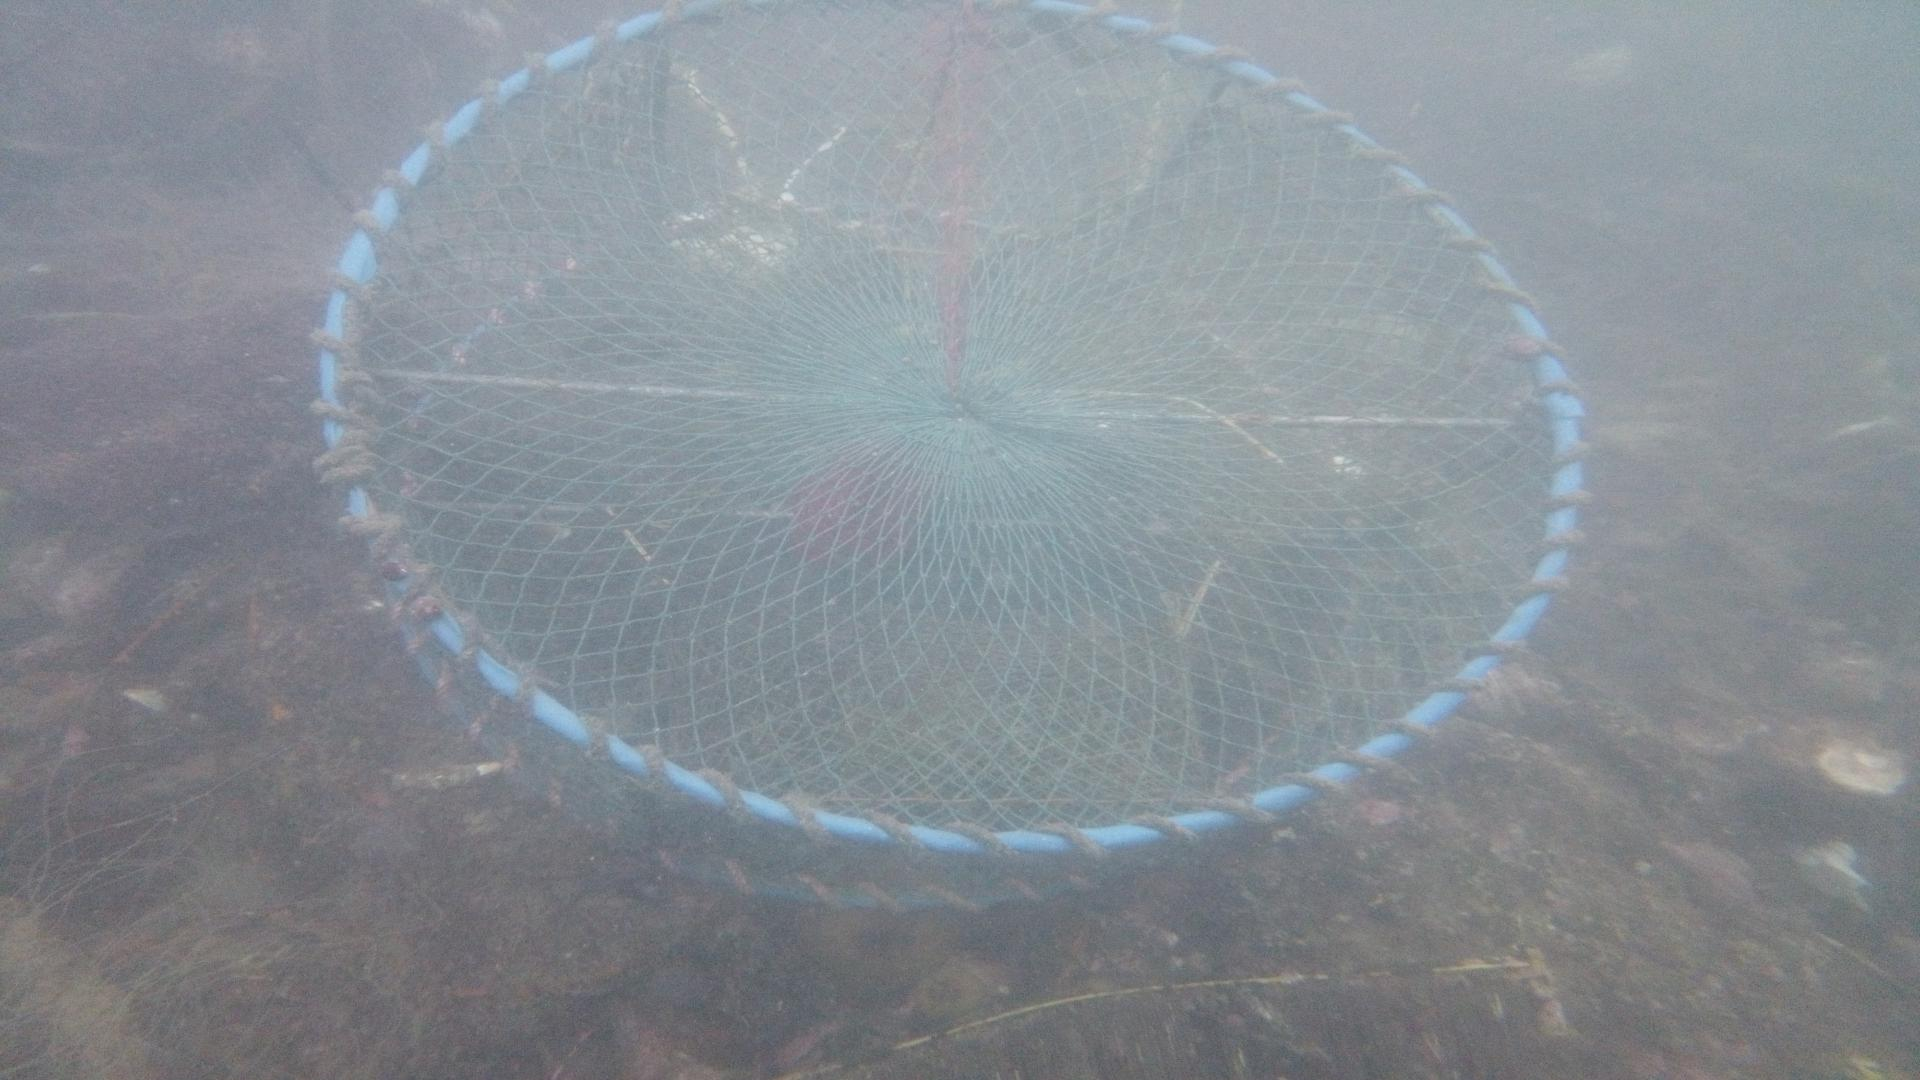circular fish trap: (302, 0, 1602, 907)
